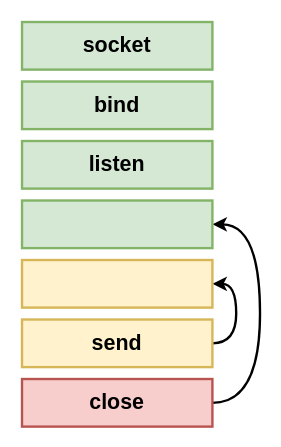
The diagram is 281 pixels wide and 447 high, and some of its shapes have lost their labels. Here are the shapes that lost their labels. From the top down, the centre of each, then its label:
At (116,224): "accept".
At (116,283): "recv".
